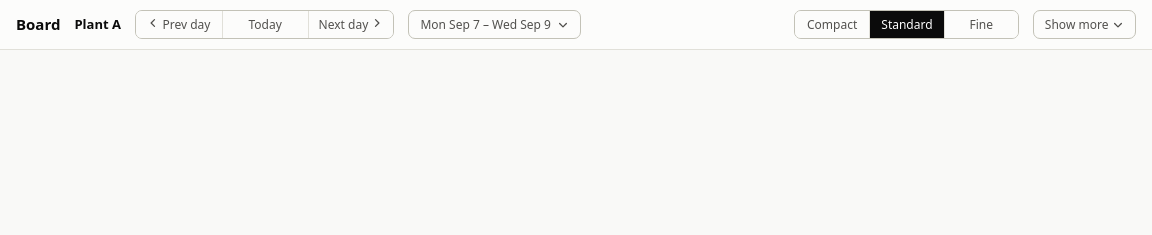
Test: S67-b: one row, closed on a fresh board › TR-2: Escape from a button inside the band returns focus to the toggle
Step 1. Click the button "Show more" → [1084, 25], box 1033,10 -> 1136,39
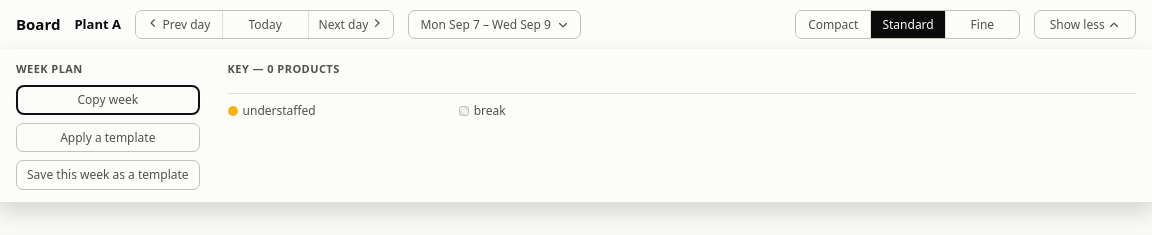
Step 2. Press Escape in the button "Copy week", box 16,85 -> 200,115
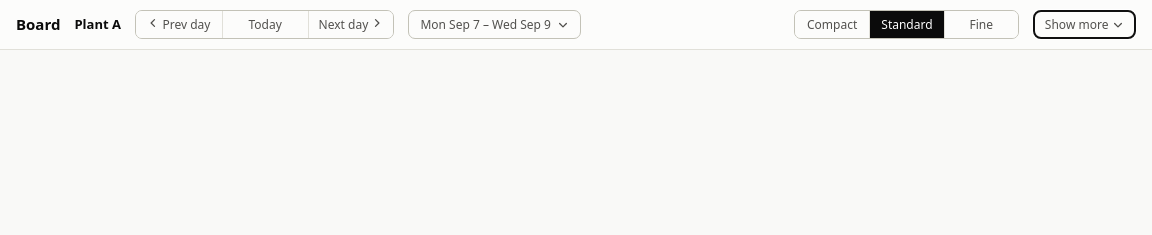
Now the button "Show more" is collapsed, box 1033,10 -> 1136,39
